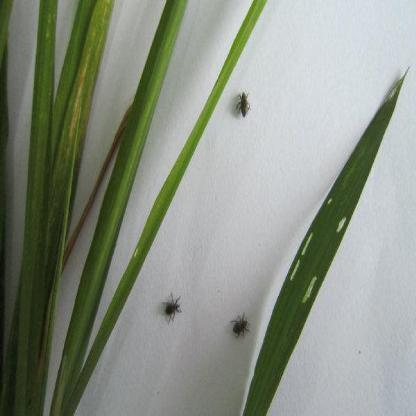rice-bug: (232, 311, 252, 339), (163, 294, 182, 322), (237, 90, 252, 118)
